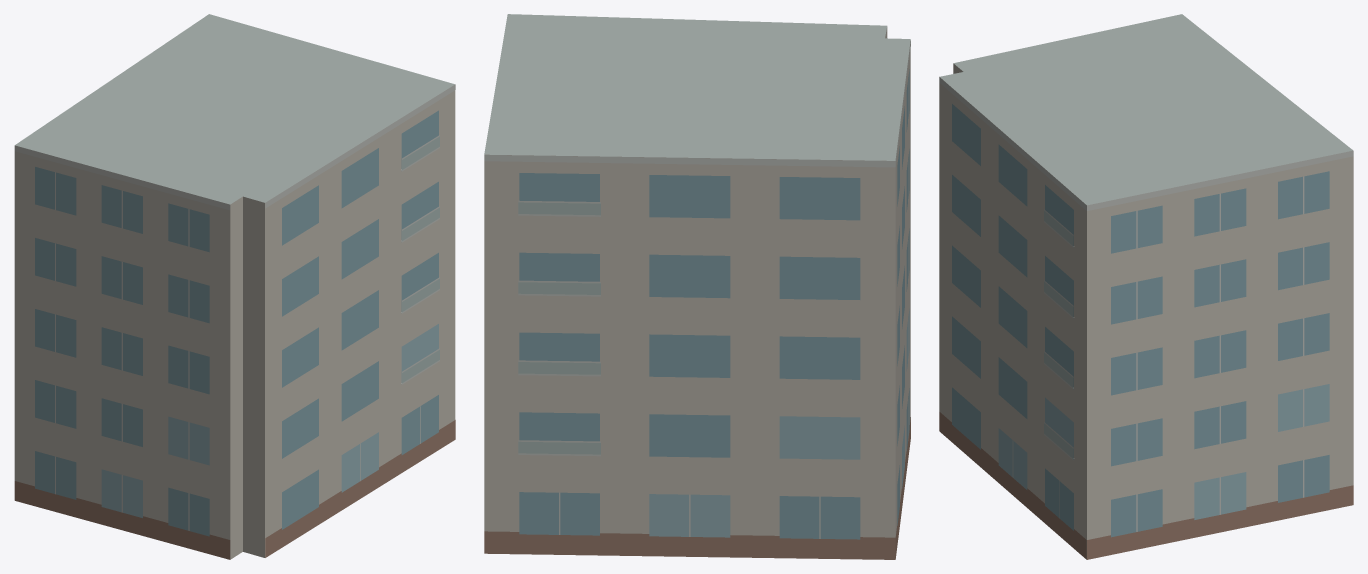
The model's file is survey-upis-32841219.glb.
The picture shows the model from 3 angles, left to right: view 1: azimuth 30°, elevation 25°; view 2: azimuth 150°, elevation 25°; view 3: azimuth 270°, elevation 25°; orthographic projection. The views are drawn at different scales.
Visible parts, largest first — view 1: survey-upis-32841219.tmp; view 2: survey-upis-32841219.tmp; view 3: survey-upis-32841219.tmp.
Boxes of the visible parts, x1=… form: survey-upis-32841219.tmp: x1=14, y1=14, x2=455, y2=559; survey-upis-32841219.tmp: x1=484, y1=14, x2=910, y2=559; survey-upis-32841219.tmp: x1=939, y1=14, x2=1353, y2=559.
Bounding box in the file's own units: 17.26 × 14.9 × 15.78.
